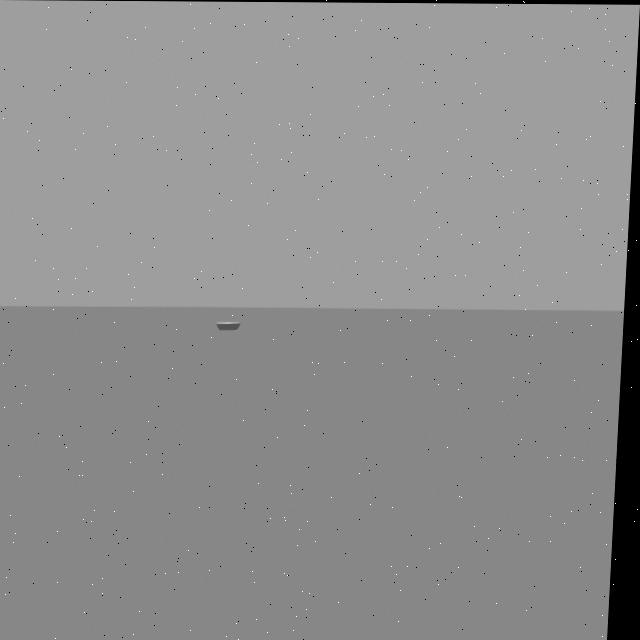bowl: (211, 307, 253, 345)
